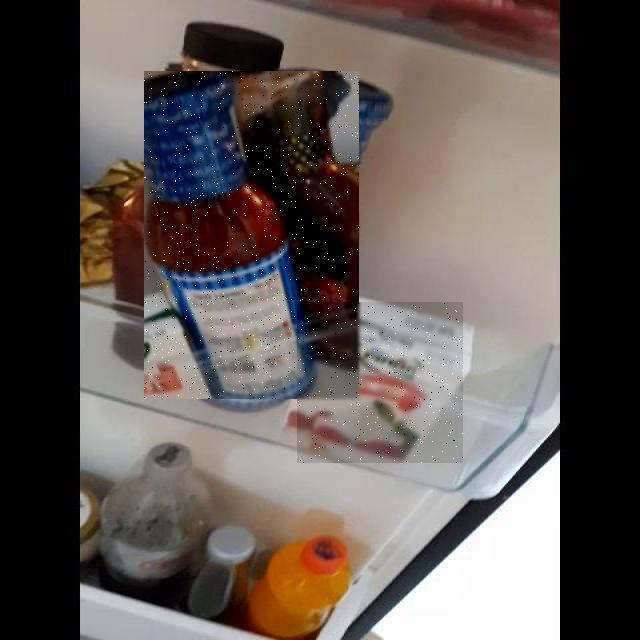Cheese: (297, 302, 463, 463)
Sauce: (144, 71, 359, 399)
